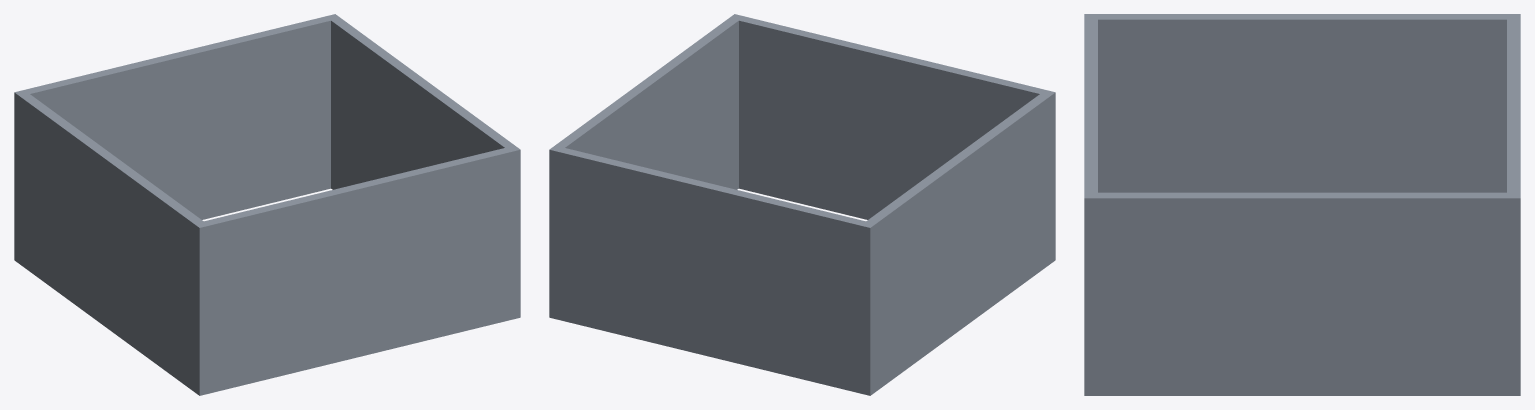
Rendered from cabinet_cabinet.obj.
The picture shows the model from 3 angles, left to right: view 1: azimuth 30°, elevation 25°; view 2: azimuth 150°, elevation 25°; view 3: azimuth 270°, elevation 25°; orthographic projection. The views are drawn at different scales.
Visible parts, largest first — view 1: Cube.473; view 2: Cube.473; view 3: Cube.473.
Part boxes in pixels (x1,y1,x2,y2): Cube.473: [14, 14, 520, 395]; Cube.473: [549, 14, 1055, 395]; Cube.473: [1084, 14, 1520, 395].
Size of the model in its own units: 0.6202 by 0.3101 by 0.6202.
Materials: 1 (1 with a texture image).
